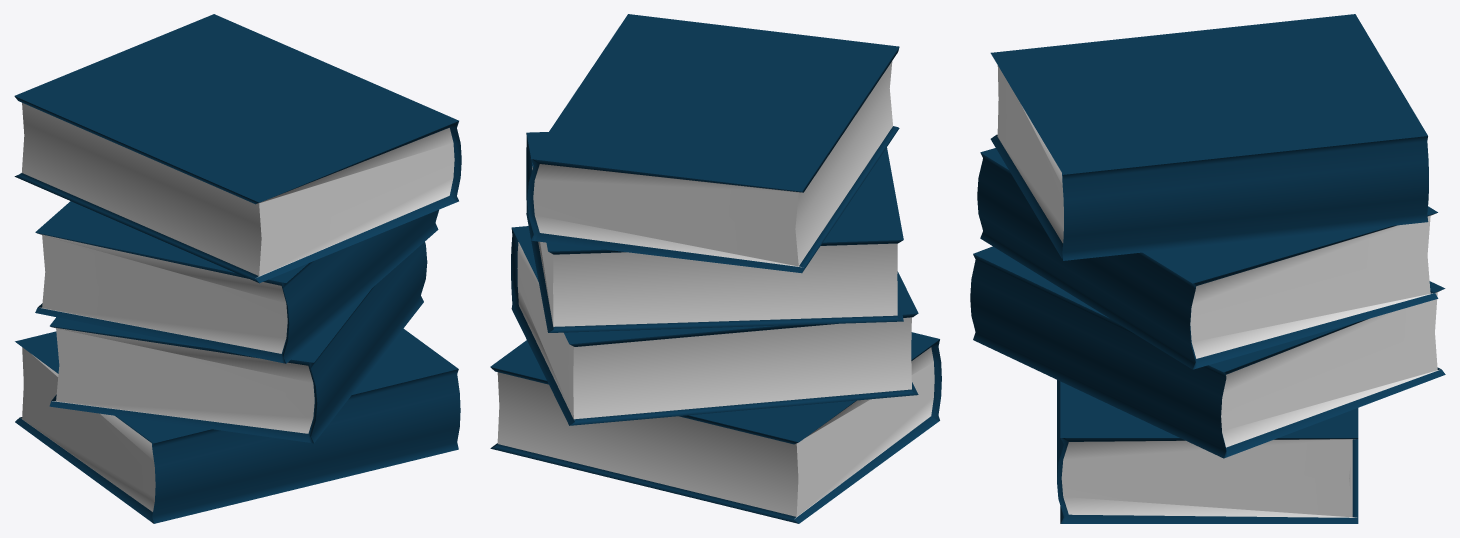
File: book_tower.fbx
3 views of the same model, side by side, from view 1: azimuth 30°, elevation 25°; view 2: azimuth 150°, elevation 25°; view 3: azimuth 270°, elevation 25° (orthographic). The views are drawn at different scales.
Visible parts, largest first — view 1: pCube19, pCube16, pCube18, pCube17; view 2: pCube19, pCube16, pCube17, pCube18; view 3: pCube19, pCube17, pCube18, pCube16.
Boxes of the visible parts, bbox=[...] form: pCube19: bbox=[14, 14, 461, 283]; pCube16: bbox=[15, 328, 460, 523]; pCube18: bbox=[35, 201, 438, 363]; pCube17: bbox=[49, 242, 427, 443]; pCube19: bbox=[527, 14, 899, 273]; pCube16: bbox=[490, 332, 941, 523]; pCube17: bbox=[511, 226, 918, 425]; pCube18: bbox=[526, 132, 903, 332]; pCube19: bbox=[990, 14, 1428, 260]; pCube17: bbox=[970, 246, 1445, 458]; pCube18: bbox=[977, 148, 1438, 369]; pCube16: bbox=[1057, 380, 1358, 523].
Bounding box in the file's own units: 0.3654 × 0.2931 × 0.3609.
